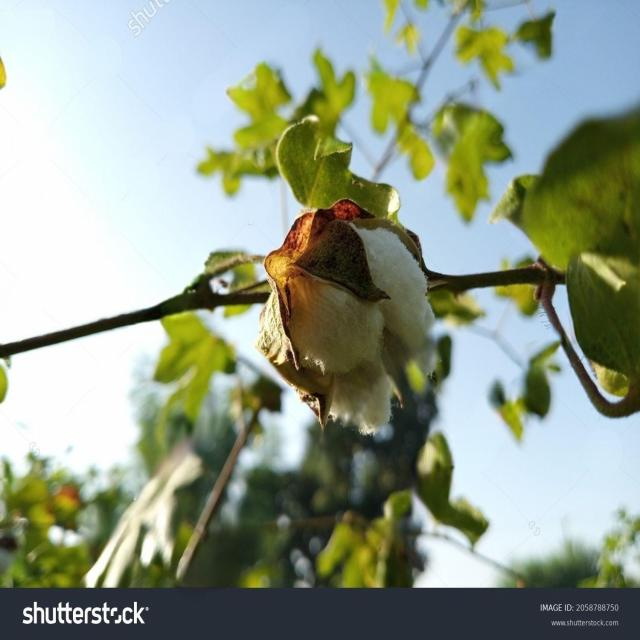Leaf: (246, 190, 454, 447)
